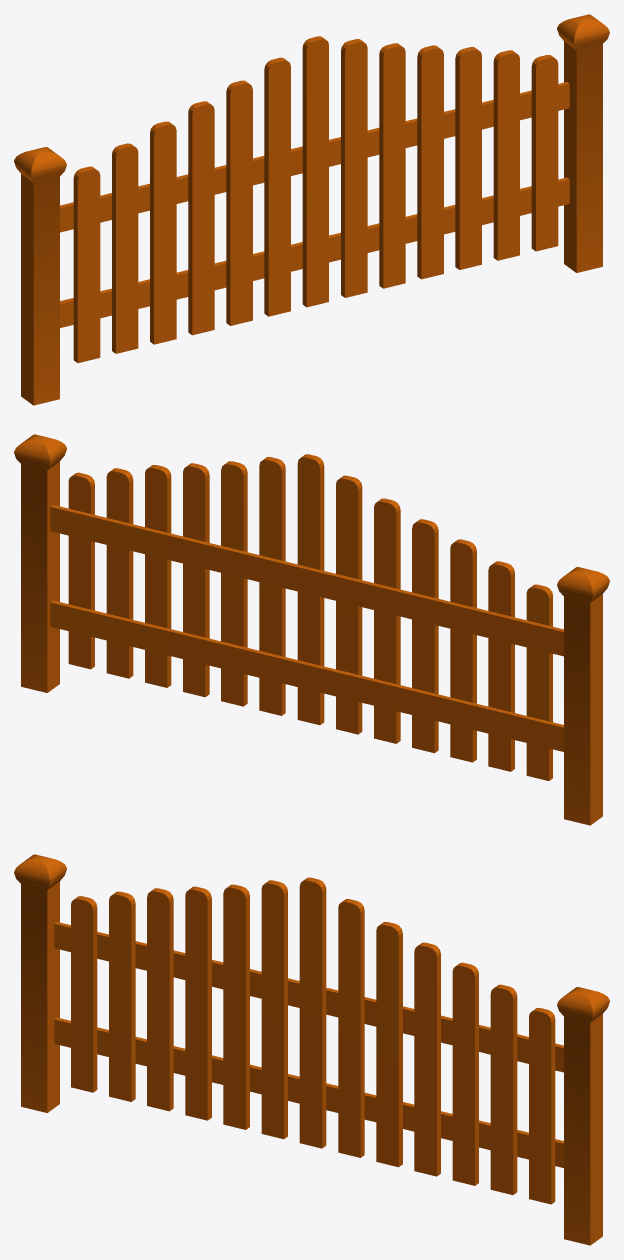
File: Fence_1.fbx
3 renders of one model, top to bottom at view 1: azimuth 30°, elevation 25°; view 2: azimuth 150°, elevation 25°; view 3: azimuth 330°, elevation 25°, orthographic.
Parts seen in each view (by area): view 1: Fence_1; view 2: Fence_1; view 3: Fence_1.
Part boxes in pixels (x1=…): Fence_1: x1=14, y1=14, x2=609, y2=405; Fence_1: x1=14, y1=434, x2=609, y2=825; Fence_1: x1=14, y1=854, x2=609, y2=1245.
Size of the model in its own units: 314 by 152 by 16.06.
Materials: 1 (1 with a texture image).
